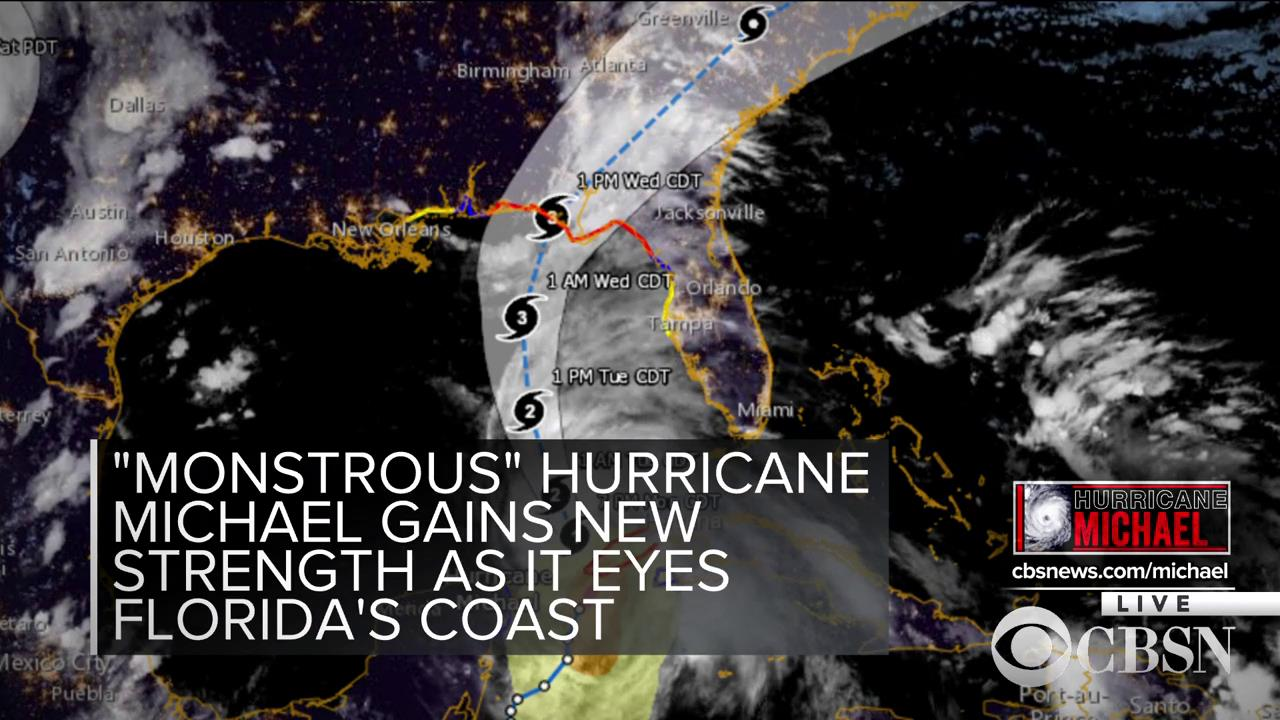1 AM Wed CDT: (543, 269, 674, 291)
1 PM Tue CDT: (549, 364, 675, 387)
1 PM Wed CDT: (571, 166, 705, 191)
2: (514, 399, 545, 419)
3: (511, 302, 534, 327), (541, 205, 562, 231)
Atlanta: (579, 54, 653, 75)
Austin: (67, 204, 133, 223)
Birmingham: (453, 60, 571, 81)
CBSN: (1075, 625, 1235, 674)
Dallas: (107, 90, 170, 113)
FLORIDA'S COAST: (110, 596, 618, 646)
Greenville: (635, 4, 732, 30)
HURRICANE: (1071, 487, 1226, 509)
Houston: (153, 226, 235, 247)
Jacksonville: (649, 205, 768, 226)
LIVE: (1112, 590, 1198, 613)
MICHAEL: (1069, 512, 1208, 548)
MICHAEL GAINS NEW: (111, 496, 703, 545)
MONSTROUS" HURRICANE: (106, 447, 875, 496)
Mexico City: (1, 651, 112, 676)
Miami: (731, 397, 798, 420)
New Orleans: (328, 219, 458, 239)
Orlando: (685, 276, 764, 297)
Port-au-: (1015, 684, 1115, 705)
Puebla: (46, 683, 115, 703)
STRENGTH AS IT EYES: (106, 545, 731, 595)
San Antonio: (13, 241, 132, 261)
Santo: (1125, 690, 1195, 718)
Tampa: (645, 312, 717, 333)
at PDT: (1, 35, 58, 59)
cbsnews.com/michael: (1010, 561, 1229, 581)
errey: (4, 405, 58, 430)
etaro: (1, 610, 50, 635)
